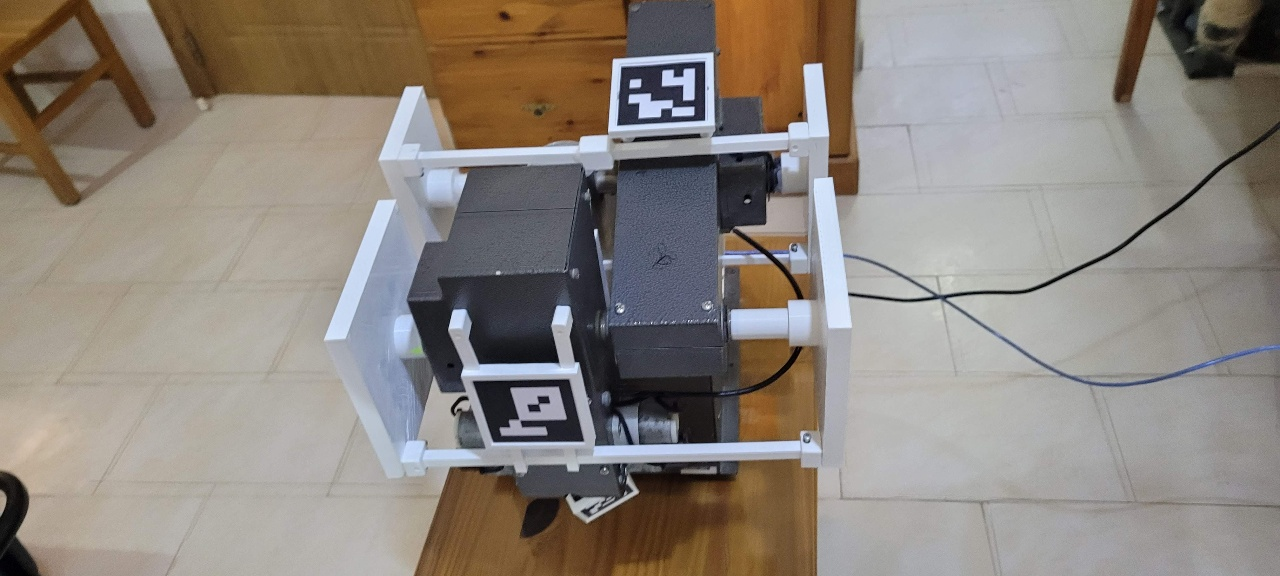Robot: (323, 1, 856, 528)
